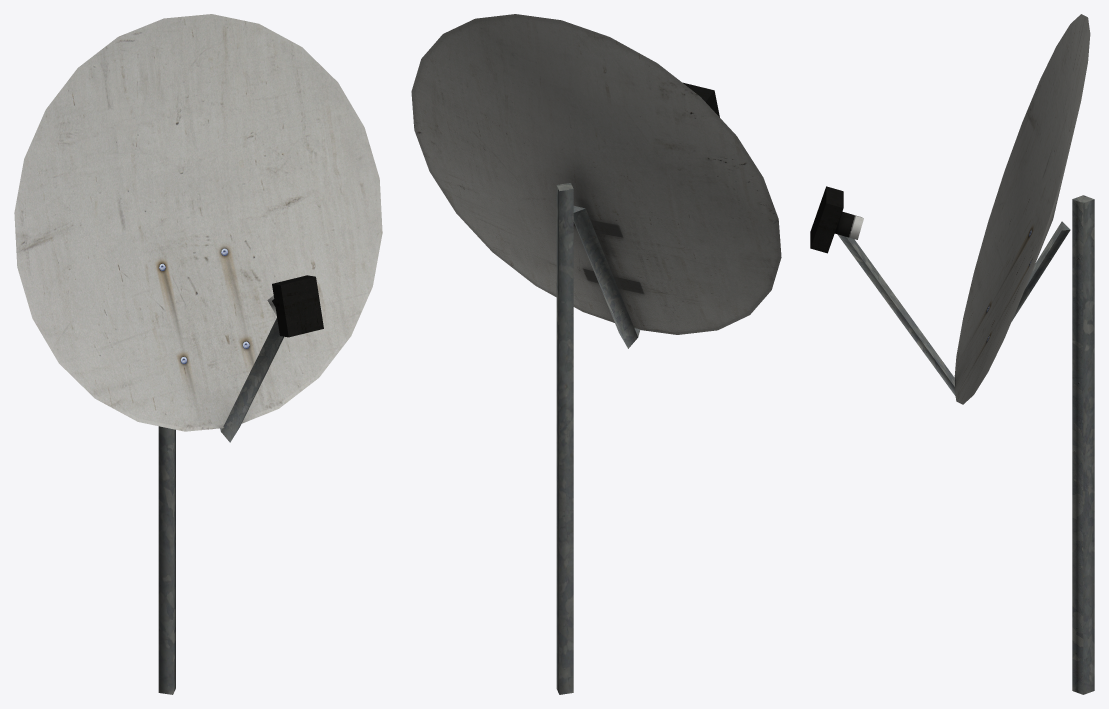
The model's file is satellite_LOD2.fbx.
3 views of the same model, side by side, from view 1: azimuth 30°, elevation 25°; view 2: azimuth 150°, elevation 25°; view 3: azimuth 270°, elevation 25° (orthographic). The views are drawn at different scales.
Parts seen in each view (by area): view 1: polySurface295; view 2: polySurface295; view 3: polySurface295.
Part boxes in pixels (x1,y1,x2,y2): polySurface295: (14, 14, 382, 694); polySurface295: (411, 14, 781, 694); polySurface295: (810, 14, 1094, 694).
Size of the model in its own units: 1.94 by 3.42 by 1.34.
